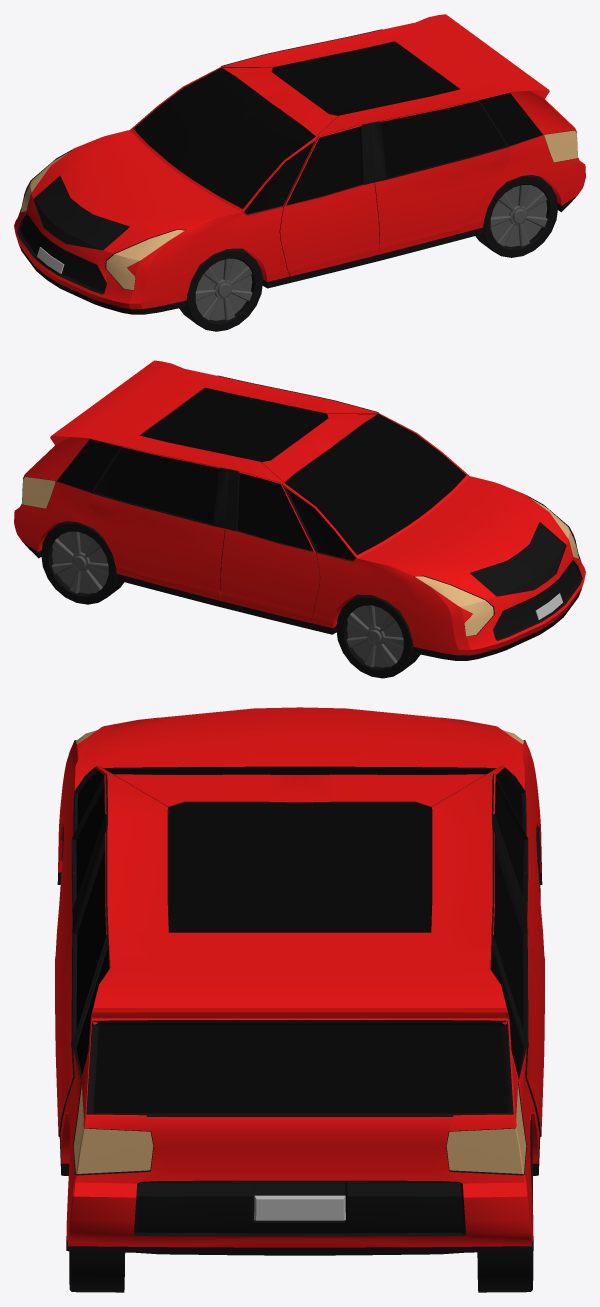
The model's file is opel.FBX.
The picture shows the model from 3 angles, top to bottom: view 1: azimuth 30°, elevation 25°; view 2: azimuth 150°, elevation 25°; view 3: azimuth 270°, elevation 25°; orthographic projection. The views are drawn at different scales.
Visible parts, largest first — view 1: Box005; view 2: Box005; view 3: Box005.
Part boxes in pixels (x1,y1,x2,y2): Box005: [14, 14, 585, 331]; Box005: [14, 360, 585, 678]; Box005: [55, 707, 544, 1292].
Bounding box in the file's own units: 66.67 × 29.17 × 21.29.
